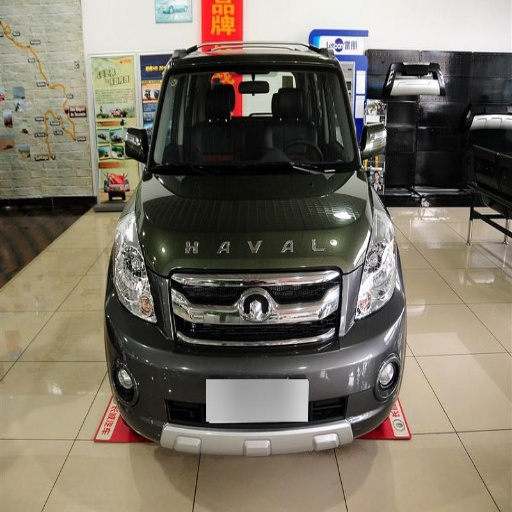front_bumper: (106, 268, 404, 457)
front_right_light: (111, 215, 158, 322)
hood: (141, 165, 374, 274)
